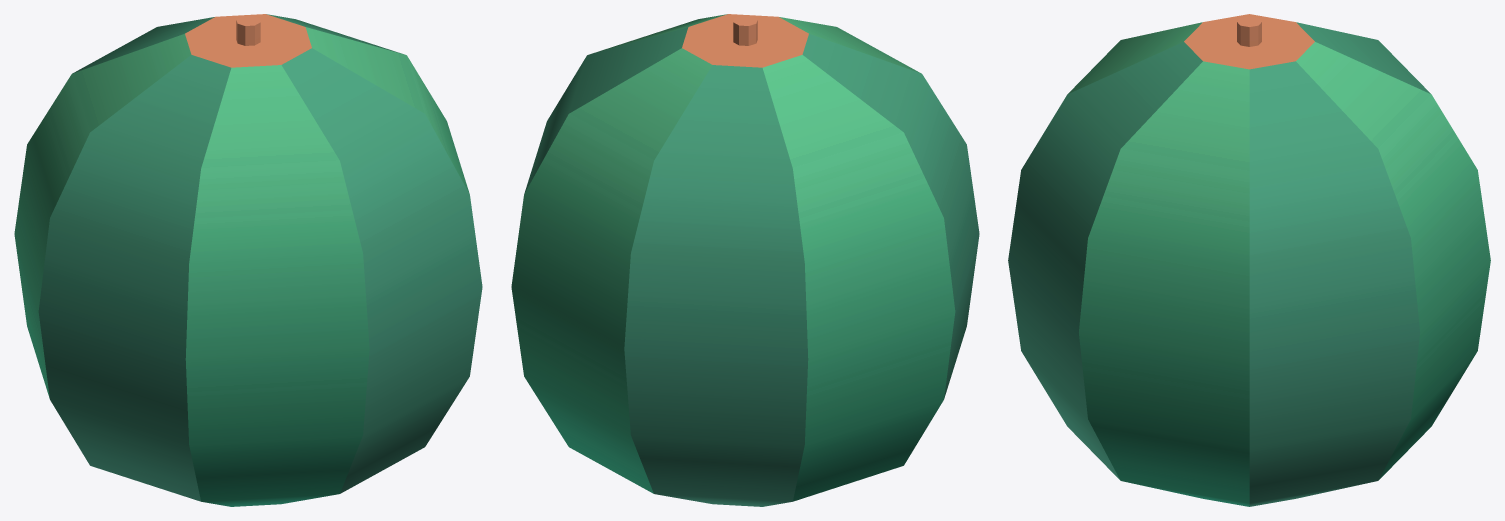
File: watermelon.glb
3 renders of one model, left to right at view 1: azimuth 30°, elevation 25°; view 2: azimuth 150°, elevation 25°; view 3: azimuth 270°, elevation 25°, orthographic.
Visible parts, largest first — view 1: slice; view 2: slice; view 3: slice.
Part boxes in pixels (left/top/right/bottom): slice: left=14, top=14, right=482, bottom=506; slice: left=511, top=14, right=979, bottom=506; slice: left=1008, top=14, right=1490, bottom=506.
Size of the model in its own units: 0.4554 by 0.4761 by 0.4554.
1 material, 1 textured.
